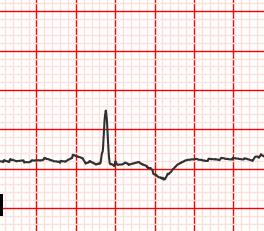T inversion: (134, 153, 193, 184)
